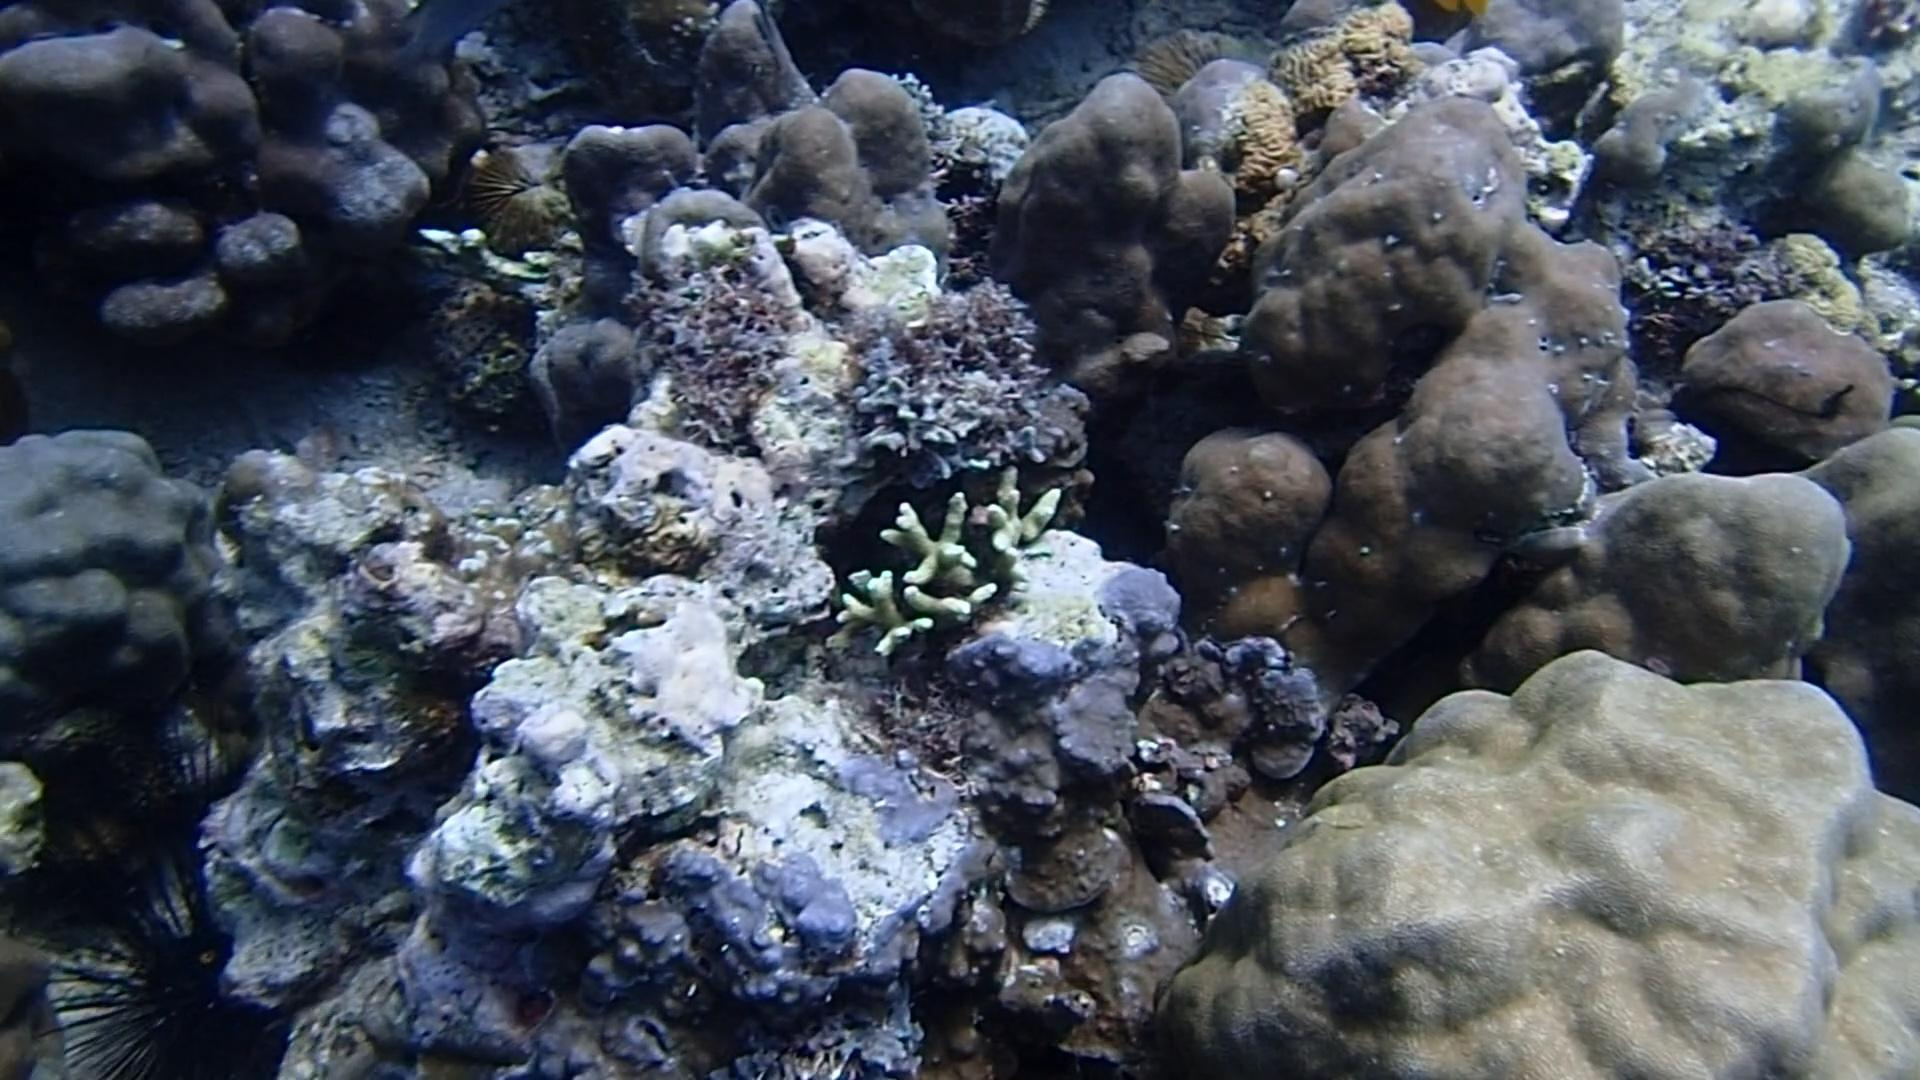Blue Fish Two: (361, 0, 506, 82)
